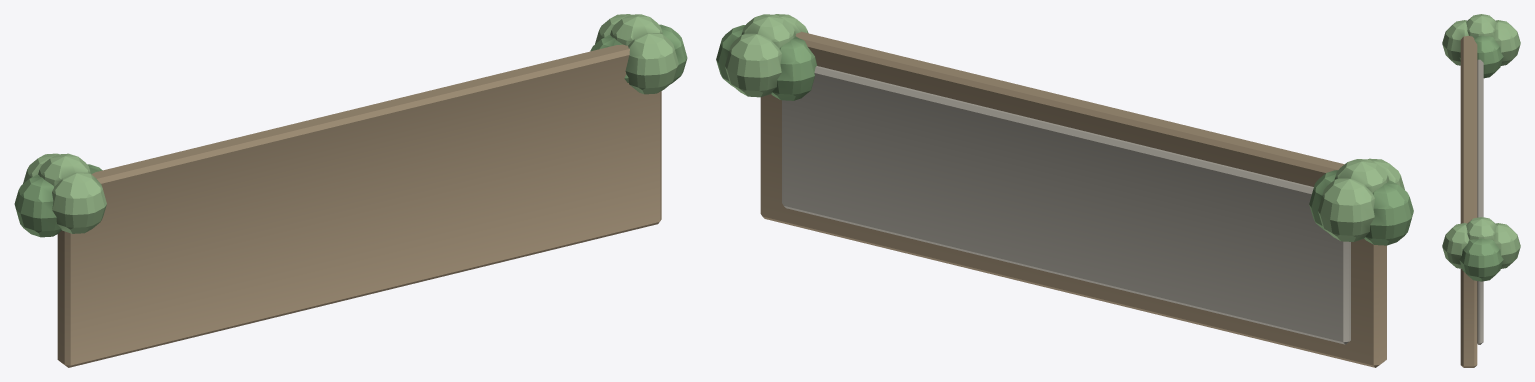
Rendered from petshop_sign.glb.
3 renders of one model, left to right at view 1: azimuth 30°, elevation 25°; view 2: azimuth 150°, elevation 25°; view 3: azimuth 270°, elevation 25°, orthographic. The views are drawn at different scales.
Size of the model in its own units: 2.67 by 0.771 by 0.3737.
